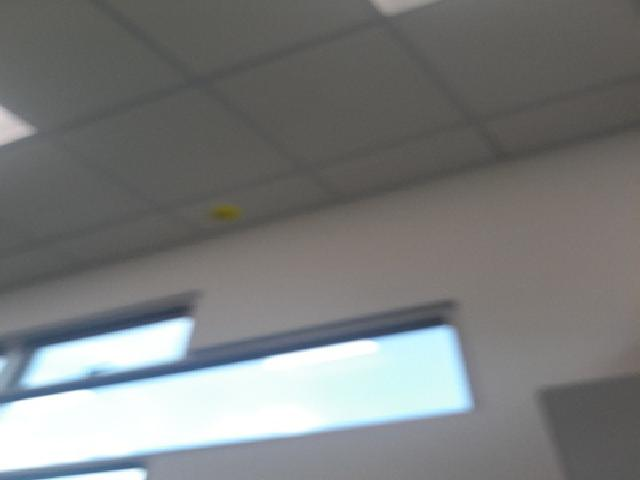Ball: (206, 203, 238, 221)
